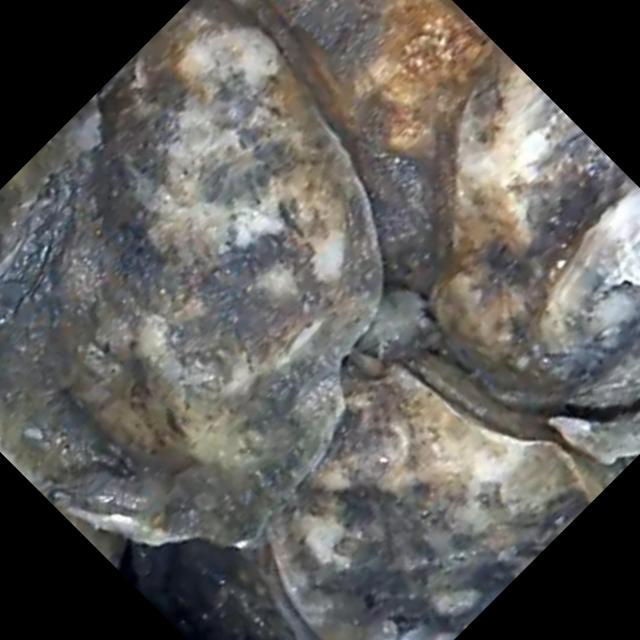Oyster- Indeterminate: (0, 0, 382, 546), (244, 347, 615, 640), (228, 0, 488, 377), (426, 39, 640, 408), (129, 537, 292, 640), (0, 94, 97, 250), (555, 406, 640, 454)
